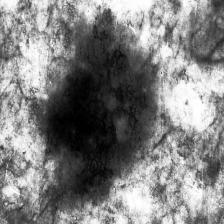Benign Marking or Mole: (46, 16, 140, 199)
